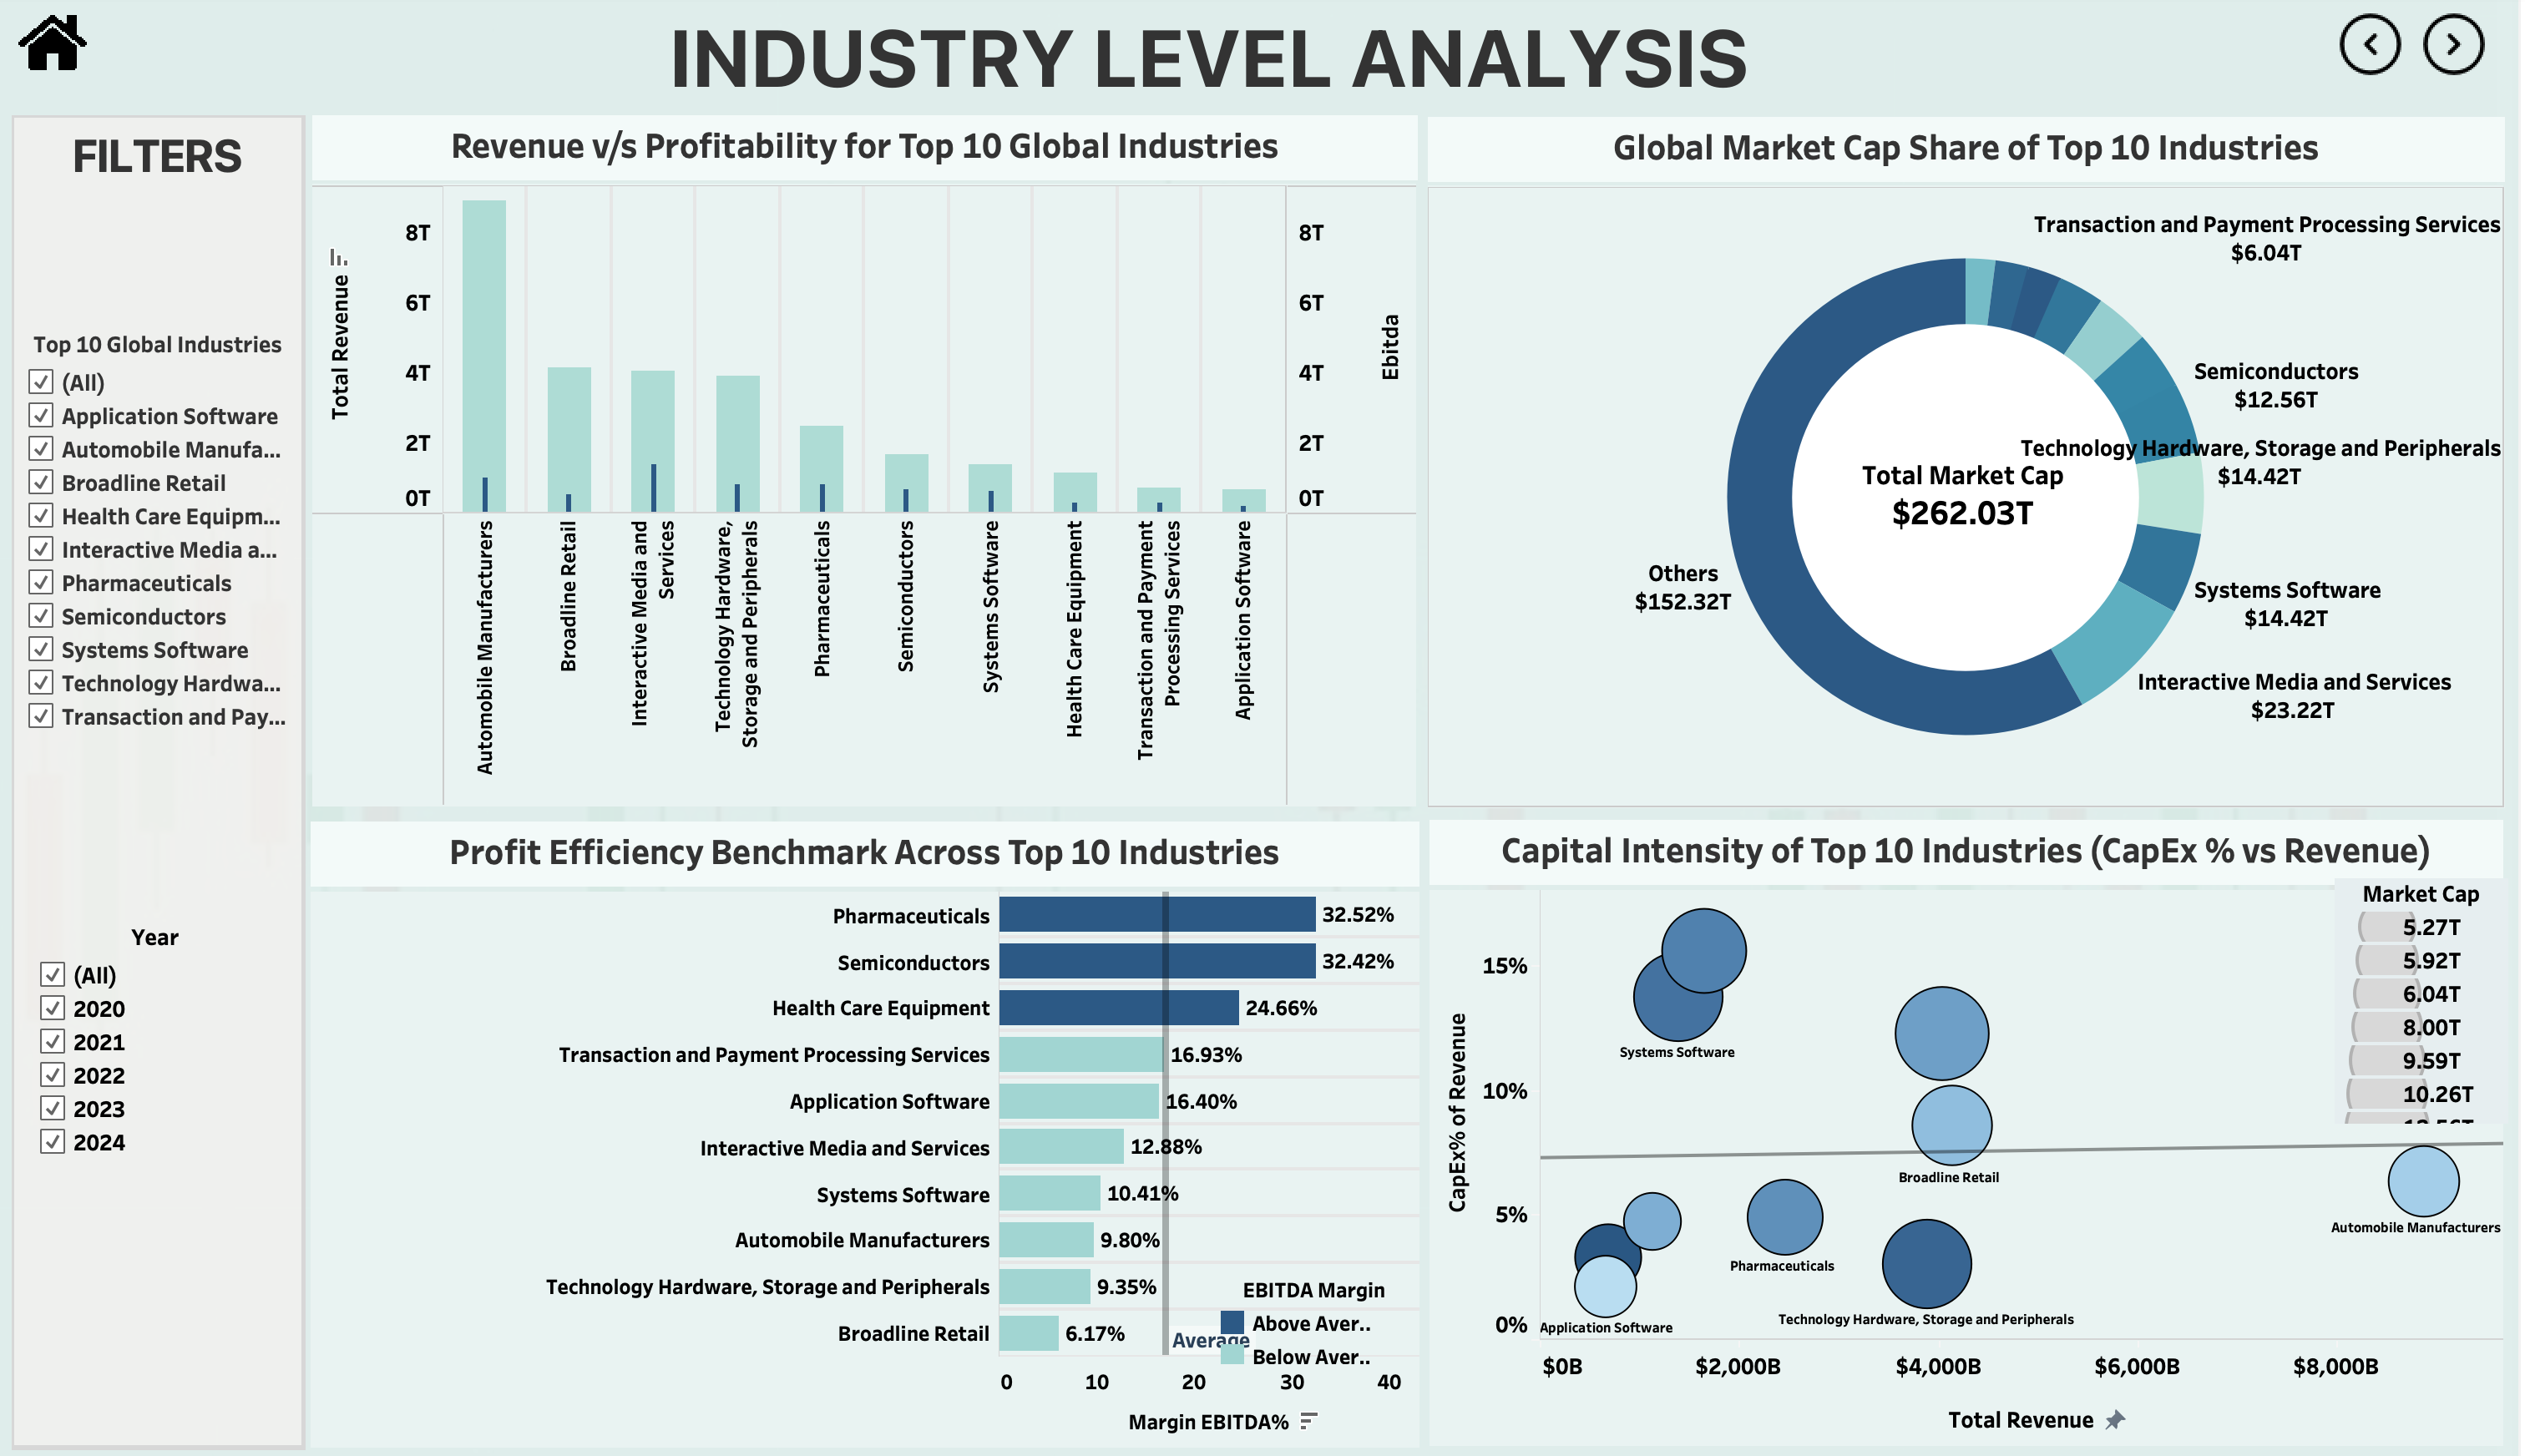

The dashboard page shown, as its layout file describes it:
{"tool":"tableau","page":{"name":"Industry Level Analysis","canvas":[1000,1000],"units":"permille","ordinal":3},"visuals":[{"type":"worksheet","title":"Industry Info","mark":"Automatic","box":[39.1,6.8,881,72.4]},{"type":"dashboard-object","box":[3.9,7.5,33.4,46.8]},{"type":"dashboard-object","box":[925.4,7.5,27.3,48.3]},{"type":"dashboard-object","box":[955.4,9.1,32.9,46.8]},{"type":"worksheet","title":"box (2)","mark":"Automatic","box":[4.5,81.5,116.4,914]},{"type":"worksheet","title":"Revenue v/s Profitability for Top 10 Global Industries","mark":"Bar","rows":["Total Revenue","EBITDA"],"box":[123.5,81.5,438,473.6]},{"type":"worksheet","title":"Global Market Cap Share of Top 10 Industries","mark":"Pie","cols":["Calculation_412360849252761603","Calculation_412360849252794373"],"box":[565.6,82.2,426.8,472.9]},{"type":"worksheet","title":"FILTERS","mark":"Automatic","box":[7.6,87.5,110.5,40.7]},{"type":"filter","title":"Revenue v/s Profitability for Top 10 Global Industries","param":"[federated.0pgchlx1p5gws61gtvl2m0kqny3y].[Primary Industry Set]","box":[7.6,228,110.5,340.5]},{"type":"worksheet","title":"Capital Intensity of Top 10 Industries (CapEx % vs Revenue)","mark":"Circle","rows":["Calculation_412360849256005641"],"cols":["Total Revenue"],"box":[566.4,563.4,425.6,428.4]},{"type":"worksheet","title":"Profit Efficiency Benchmark Across Top 10 Industries","mark":"Automatic","cols":["Calculation_412360849254600711"],"box":[123.1,564.1,438.9,429.1]},{"type":"legend","title":"Capital Intensity of Top 10 Industries (CapEx % vs Revenue)","param":"[federated.0pgchlx1p5gws61gtvl2m0kqny3y].[usr:Calculation_743375429045719040:nk]","box":[924.7,603.3,69.1,168.2]},{"type":"filter","title":"Revenue v/s Profitability for Top 10 Global Industries","param":"[federated.0pgchlx1p5gws61gtvl2m0kqny3y].[yr:Year:ok]","box":[12,632.7,98.9,221.7]},{"type":"legend","title":"Profit Efficiency Benchmark Across Top 10 Industries","param":"[federated.0pgchlx1p5gws61gtvl2m0kqny3y].[usr:Calculation_412360849254748168:nk:","box":[481.7,875.6,78,61.1]}]}

Visuals, with their boxes on the dashboard's canvas, which has no fixed pixel size, in thousandths of its width and height (x1, y1, x2, y2). These are canvas units, not pixel positions in the 2525x1456 screenshot, which may show the page scaled, cropped or inside an application window:
"Industry Info" worksheet: [left=39, top=7, right=920, bottom=79]
dashboard-object: [left=4, top=8, right=37, bottom=54]
dashboard-object: [left=925, top=8, right=953, bottom=56]
dashboard-object: [left=955, top=9, right=988, bottom=56]
"box (2)" worksheet: [left=4, top=82, right=121, bottom=996]
"Revenue v/s Profitability for Top 10 Global Industries" worksheet (Bar marks): [left=124, top=82, right=562, bottom=555]
"Global Market Cap Share of Top 10 Industries" worksheet (Pie marks): [left=566, top=82, right=992, bottom=555]
"FILTERS" worksheet: [left=8, top=88, right=118, bottom=128]
"Revenue v/s Profitability for Top 10 Global Industries" filter: [left=8, top=228, right=118, bottom=568]
"Capital Intensity of Top 10 Industries (CapEx % vs Revenue)" worksheet (Circle marks): [left=566, top=563, right=992, bottom=992]
"Profit Efficiency Benchmark Across Top 10 Industries" worksheet: [left=123, top=564, right=562, bottom=993]
"Capital Intensity of Top 10 Industries (CapEx % vs Revenue)" legend: [left=925, top=603, right=994, bottom=772]
"Revenue v/s Profitability for Top 10 Global Industries" filter: [left=12, top=633, right=111, bottom=854]
"Profit Efficiency Benchmark Across Top 10 Industries" legend: [left=482, top=876, right=560, bottom=937]
